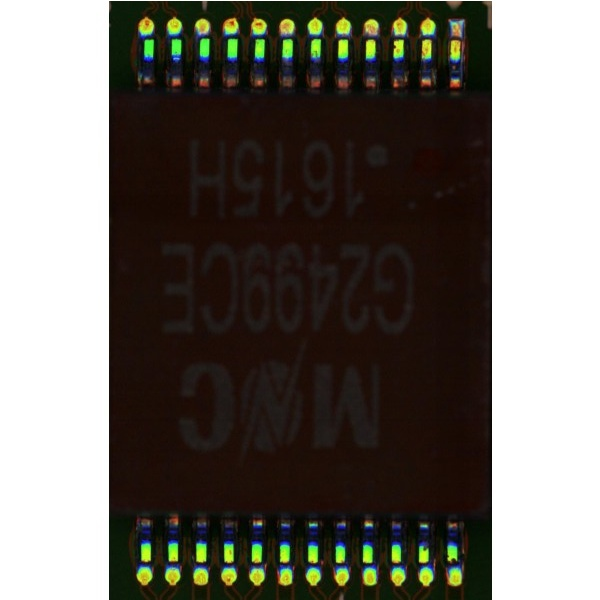Bad_podu: (451, 28, 461, 46), (367, 26, 375, 47)
